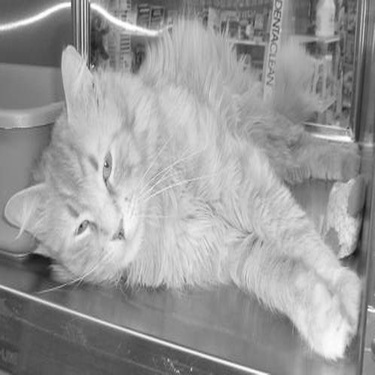cat: (6, 1, 370, 372)
